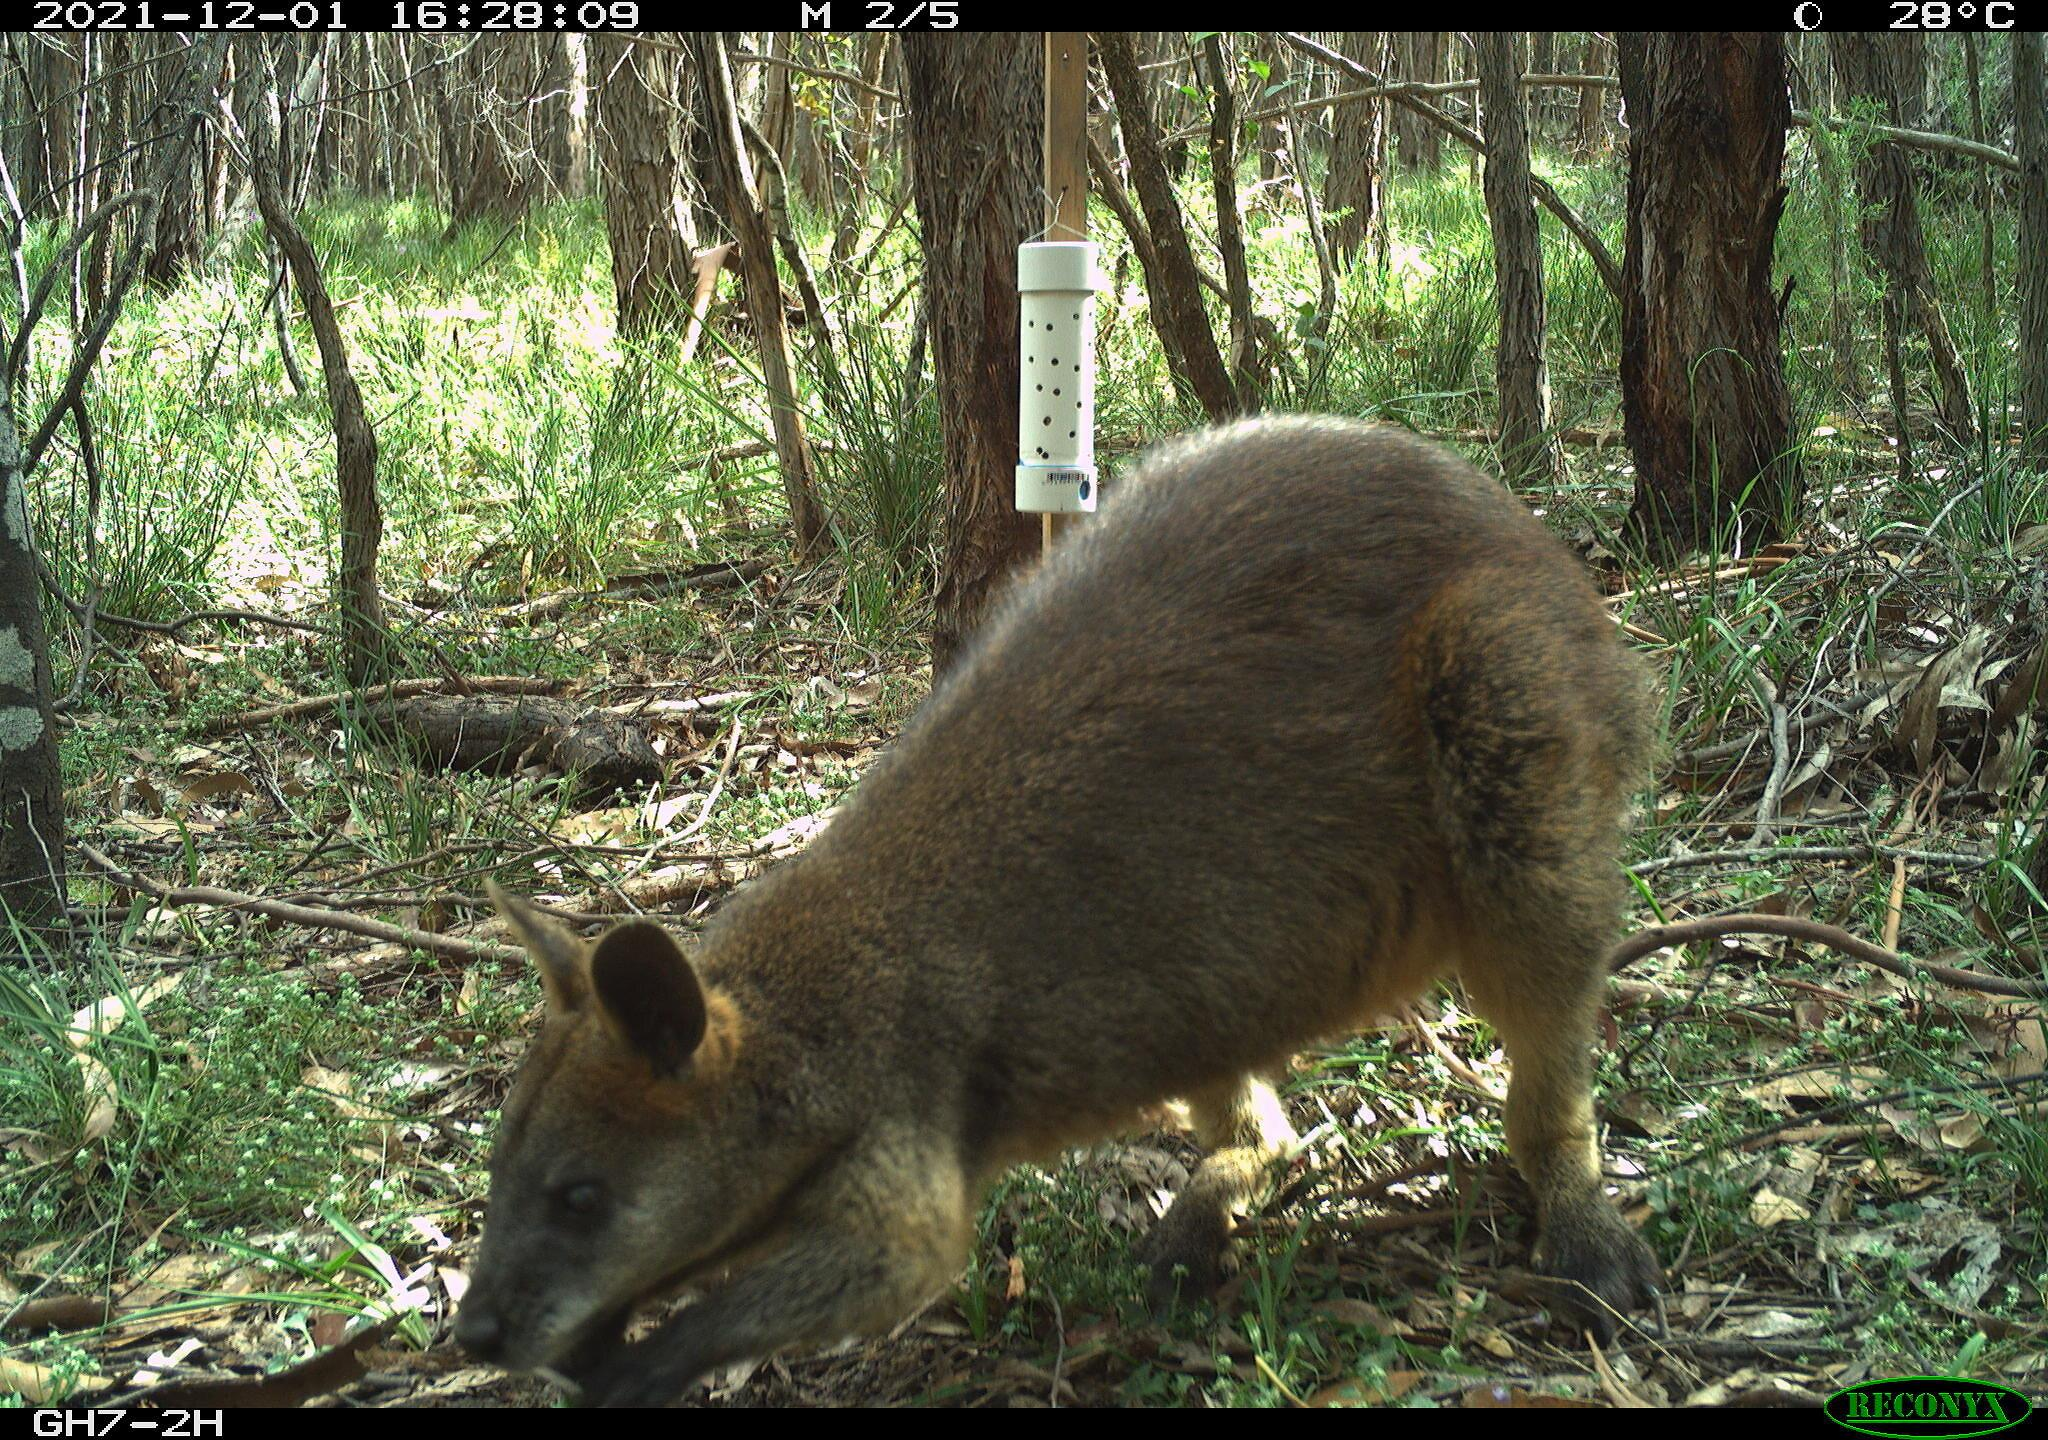Swamp wallaby: (432, 413, 1718, 1382)
